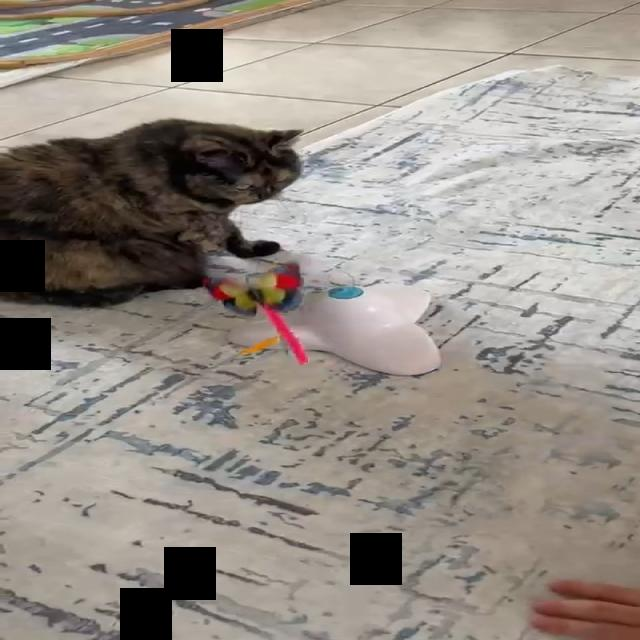authorized: (0, 117, 304, 308)
